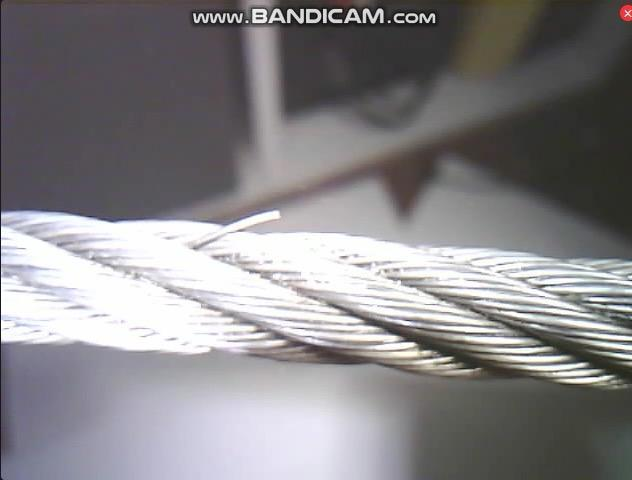break: (175, 199, 295, 263)
